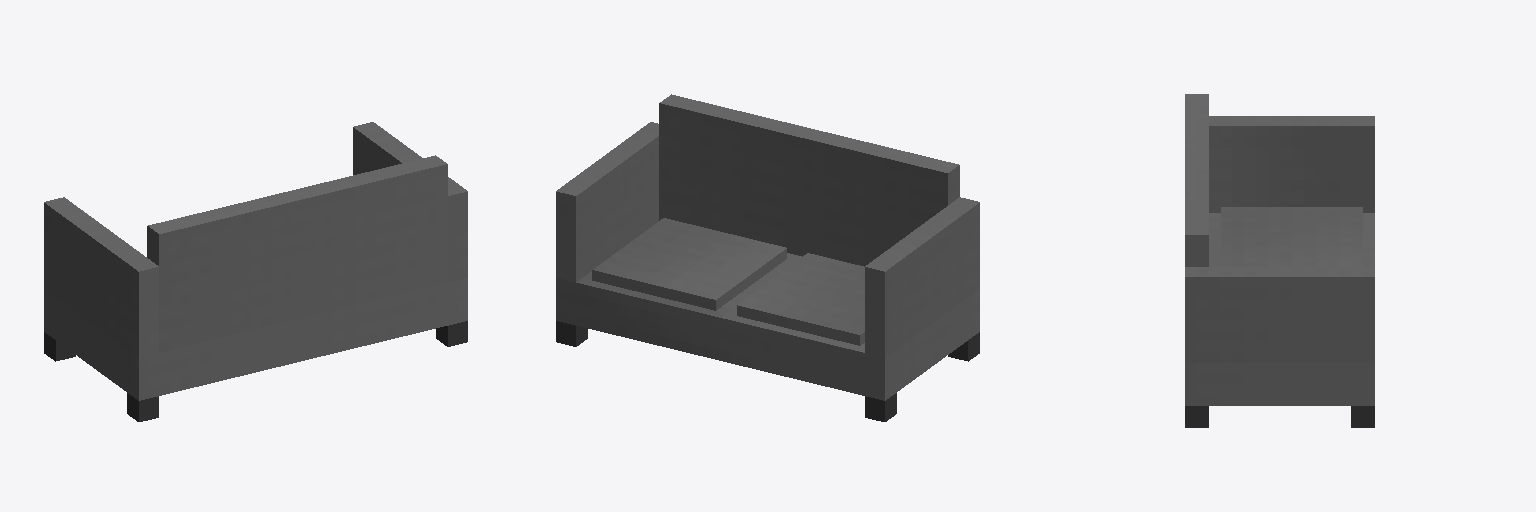
The picture shows the model from 3 angles: view 1: azimuth 30°, elevation 25°; view 2: azimuth 150°, elevation 25°; view 3: azimuth 270°, elevation 25°; orthographic projection.
Parts seen in each view (by area): view 1: back, base, right, left, foot_4, foot_3; view 2: back, base, right, cushion_1, left, cushion_2, foot_1, foot_2; view 3: left, right, base, cushion_2, back, foot_2, foot_3.
Part boxes in pixels (bbox=[...]): back: bbox=[147, 155, 447, 352]; base: bbox=[44, 278, 467, 400]; right: bbox=[44, 197, 158, 357]; left: bbox=[353, 122, 467, 281]; foot_4: bbox=[127, 393, 158, 421]; foot_3: bbox=[436, 321, 467, 346]; back: bbox=[659, 94, 959, 266]; base: bbox=[556, 253, 979, 400]; right: bbox=[865, 197, 979, 357]; cushion_1: bbox=[592, 218, 786, 310]; left: bbox=[556, 122, 658, 281]; cushion_2: bbox=[737, 253, 864, 345]; foot_1: bbox=[865, 393, 896, 421]; foot_2: bbox=[556, 321, 587, 346]; left: bbox=[1185, 267, 1374, 362]; right: bbox=[1209, 116, 1374, 212]; base: bbox=[1185, 213, 1374, 405]; cushion_2: bbox=[1221, 207, 1362, 266]; back: bbox=[1185, 94, 1208, 266]; foot_2: bbox=[1351, 406, 1374, 427]; foot_3: bbox=[1185, 406, 1208, 427].
Bounding box in the file's own units: 2 × 1.06 × 1.
Materials: 2 (2 with a texture image).